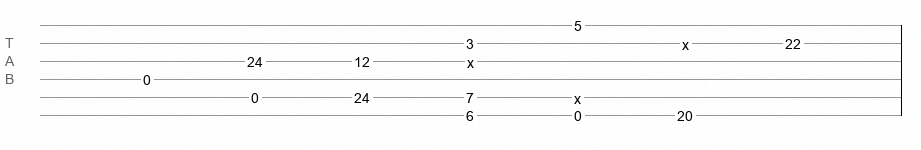0: (143, 72, 151, 82), (251, 90, 259, 100), (574, 108, 582, 118)
12: (354, 54, 370, 64)
20: (677, 108, 693, 118)
22: (785, 36, 801, 46)
24: (247, 54, 263, 64), (354, 90, 370, 100)
3: (466, 36, 474, 46)
5: (574, 18, 582, 28)
6: (466, 108, 474, 118)
7: (466, 90, 474, 100)
x: (467, 55, 474, 63), (574, 91, 581, 99), (682, 37, 689, 45)
